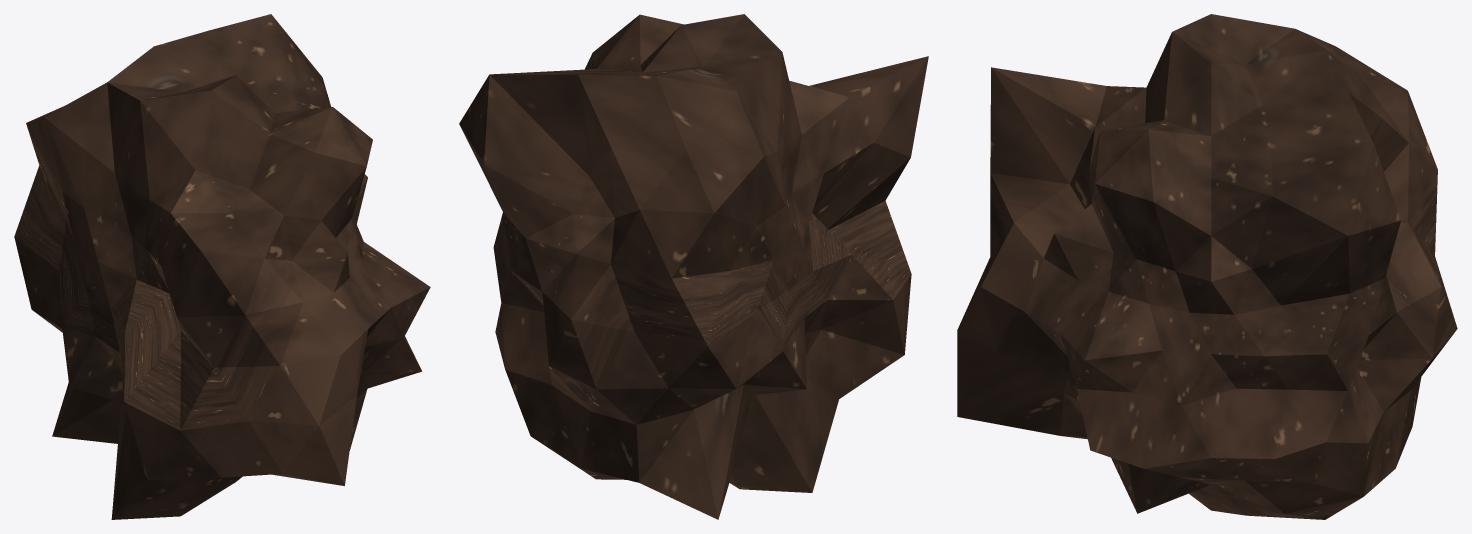
File: planet_02_b.glb
The picture shows the model from 3 angles, left to right: view 1: azimuth 30°, elevation 25°; view 2: azimuth 150°, elevation 25°; view 3: azimuth 270°, elevation 25°; orthographic projection. The views are drawn at different scales.
Parts seen in each view (by area): view 1: Body; view 2: Body; view 3: Body.
Boxes of the visible parts, x1,y1,x2,y2 form: Body: [14, 14, 430, 519]; Body: [459, 14, 928, 519]; Body: [957, 14, 1457, 519].
Size of the model in its own units: 1.2 by 1.64 by 1.55.
Materials: 1 (1 with a texture image).
